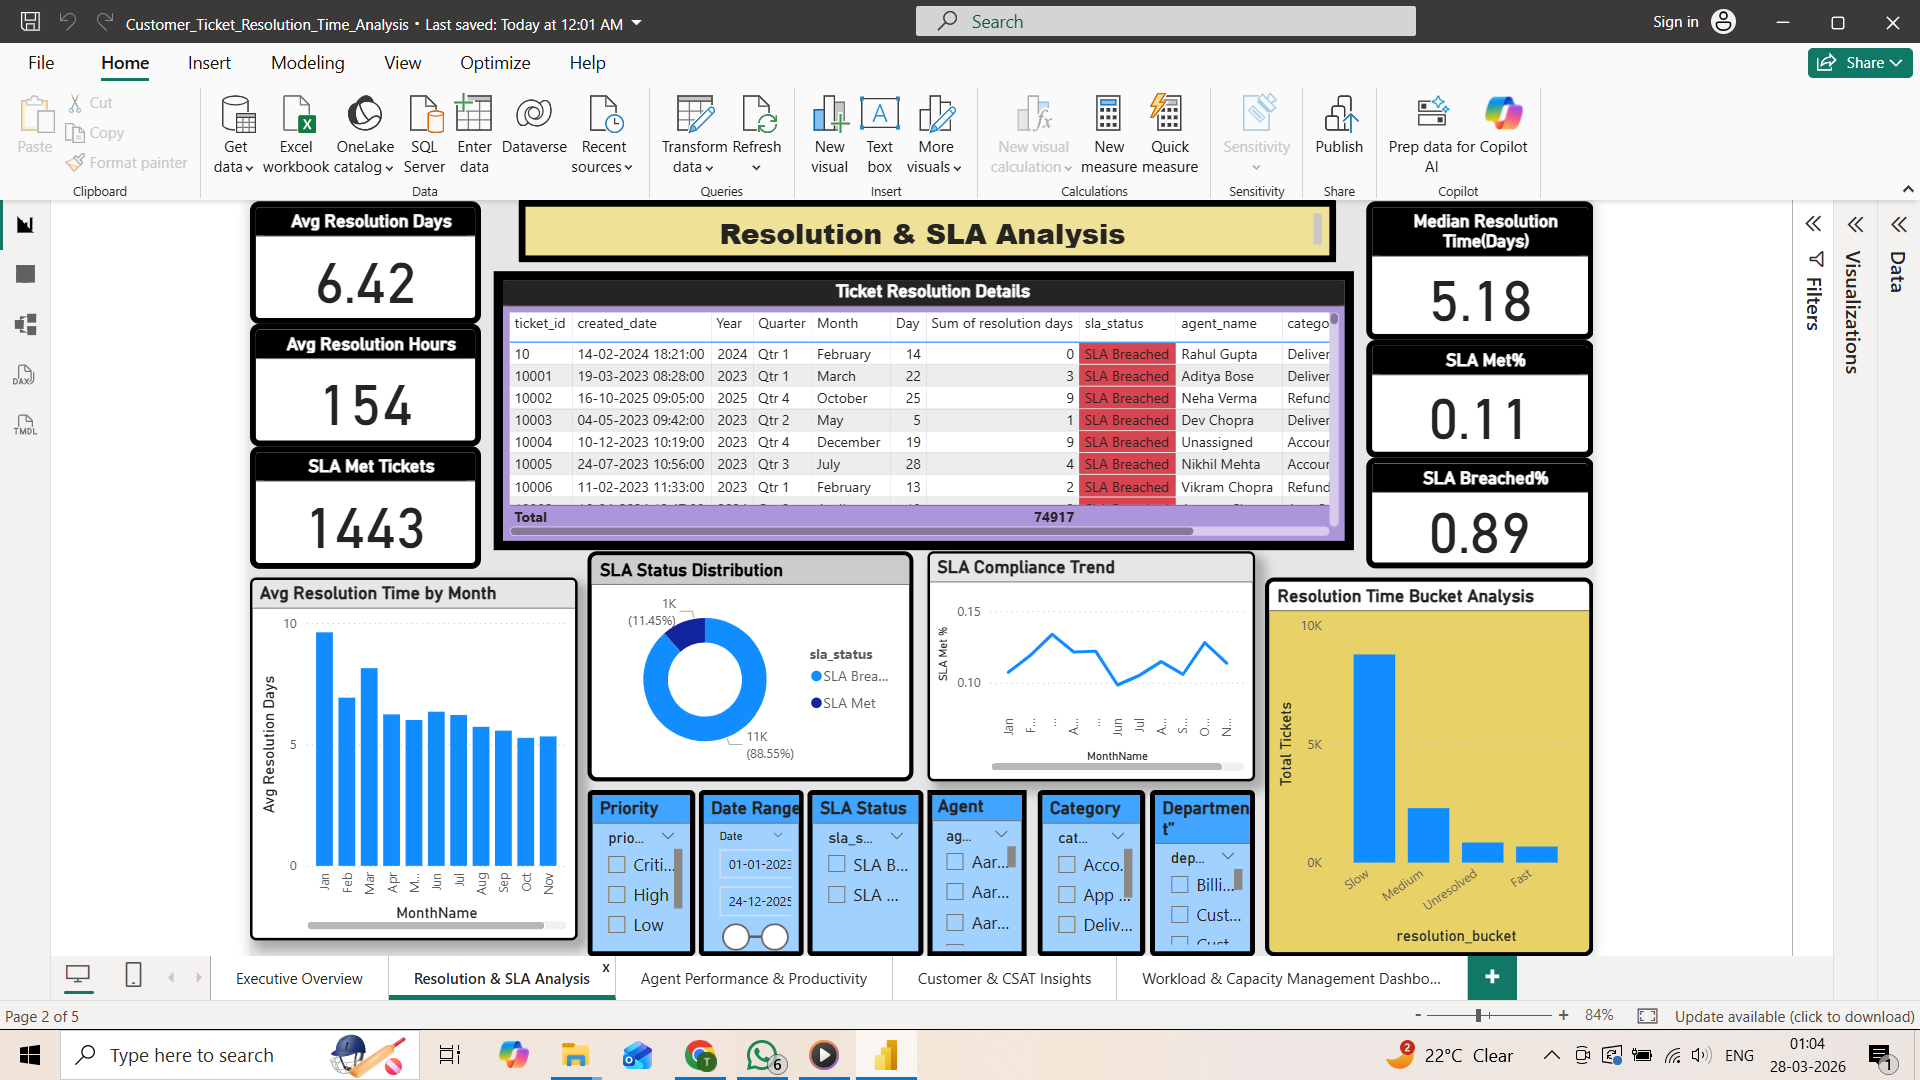

The dashboard page shown, as its layout file describes it:
{"tool":"powerbi","page":{"name":"Resolution & SLA Analysis","canvas":[1280,720],"ordinal":1},"visuals":[{"type":"textbox","box":[256,0,778.6,59.5],"z":0},{"type":"card","title":"Avg Resolution Days","fields":{"Values":["all_measures.Avg Resolution Days"]},"box":[0,1.2,220.2,116.7],"z":1000},{"type":"card","title":"Avg Resolution Hours","fields":{"Values":["all_measures.Avg Resolution Hours"]},"box":[0,117.9,220.2,116.7],"z":2000},{"type":"card","title":"Median Resolution Time(Days)","fields":{"Values":["all_measures.Median Resolution Days"]},"box":[1063.1,1.2,216.7,132.1],"z":3000},{"type":"card","title":"SLA Met%","fields":{"Values":["all_measures.SLA Met %"]},"box":[1063.1,133.3,216.7,111.9],"z":4000},{"type":"card","title":"SLA Breached%","fields":{"Values":["all_measures.SLA Breached %"]},"box":[1063.1,245.2,216.7,106],"z":5000},{"type":"card","title":"SLA Met Tickets","fields":{"Values":["all_measures.SLA Met Tickets"]},"box":[0,234.5,220.2,116.7],"z":6000},{"type":"lineChart","title":"SLA Compliance Trend","fields":{"Category":["DateTable.MonthName"],"Y":["all_measures.SLA Met %"]},"box":[645.2,334.5,311.9,219],"z":7000},{"type":"clusteredColumnChart","title":"Avg Resolution Time by Month","fields":{"Category":["DateTable.MonthName"],"Y":["all_measures.Avg Resolution Days"]},"box":[0,359.5,311.9,345.2],"z":8000},{"type":"donutChart","title":"SLA Status Distribution","fields":{"Category":["tickets.sla_status"],"Y":["all_measures.Total Tickets"]},"box":[321.4,334.5,310.7,219],"z":9000},{"type":"clusteredColumnChart","title":"Resolution Time Bucket Analysis","fields":{"Category":["tickets.resoluction_bucket"],"Y":["all_measures.Total Tickets"]},"box":[966.7,359.5,313.1,360.7],"z":10000},{"type":"tableEx","title":"Ticket Resolution Details","fields":{"Values":["tickets.ticket_id","tickets.created_date","tickets.resolved_date.Variation.Date Hierarchy.Year","tickets.resolved_date.Variation.Date Hierarchy.Quarter","tickets.resolved_date.Variation.Date Hierarchy.Month","tickets.resolved_date.Variation.Date Hierarchy.Day","Sum(tickets.resolution days)","tickets.sla_status","agents.agent_name","ticket_category.category_name","tickets.priority"]},"box":[232.1,67.9,819.1,265.5],"z":11000},{"type":"slicer","title":"Date Range","fields":{"Values":["DateTable.Date"]},"box":[427.4,561.9,100,158.3],"z":12000},{"type":"slicer","title":"Agent","fields":{"Values":["tickets.agents.agent_name"]},"box":[645.2,561.9,94,158.3],"z":13000},{"type":"slicer","title":"Category","fields":{"Values":["ticket_category.category_name"]},"box":[750,561.9,102.4,158.3],"z":14000},{"type":"slicer","title":"Priority","fields":{"Values":["tickets.priority"]},"box":[321.4,561.9,102.4,158.3],"z":15000},{"type":"slicer","title":"SLA Status","fields":{"Values":["tickets.sla_status"]},"box":[531,561.9,110.7,158.3],"z":16000},{"type":"slicer","title":"Department”","fields":{"Values":["departments.department_name"]},"box":[857.1,561.9,100,158.3],"z":17000}]}

Visuals, with their boxes on the page's 1280x720 design canvas (x1, y1, x2, y2). These are canvas units, not pixel positions in the 1920x1080 screenshot, which may show the page scaled, cropped or inside an application window:
textbox: <region>256, 0, 1035, 60</region>
"Avg Resolution Days" card: <region>0, 1, 220, 118</region>
"Avg Resolution Hours" card: <region>0, 118, 220, 235</region>
"Median Resolution Time(Days)" card: <region>1063, 1, 1280, 133</region>
"SLA Met%" card: <region>1063, 133, 1280, 245</region>
"SLA Breached%" card: <region>1063, 245, 1280, 351</region>
"SLA Met Tickets" card: <region>0, 234, 220, 351</region>
"SLA Compliance Trend" lineChart: <region>645, 334, 957, 554</region>
"Avg Resolution Time by Month" clusteredColumnChart: <region>0, 360, 312, 705</region>
"SLA Status Distribution" donutChart: <region>321, 334, 632, 554</region>
"Resolution Time Bucket Analysis" clusteredColumnChart: <region>967, 360, 1280, 720</region>
"Ticket Resolution Details" tableEx: <region>232, 68, 1051, 333</region>
"Date Range" slicer: <region>427, 562, 527, 720</region>
"Agent" slicer: <region>645, 562, 739, 720</region>
"Category" slicer: <region>750, 562, 852, 720</region>
"Priority" slicer: <region>321, 562, 424, 720</region>
"SLA Status" slicer: <region>531, 562, 642, 720</region>
"Department”" slicer: <region>857, 562, 957, 720</region>
